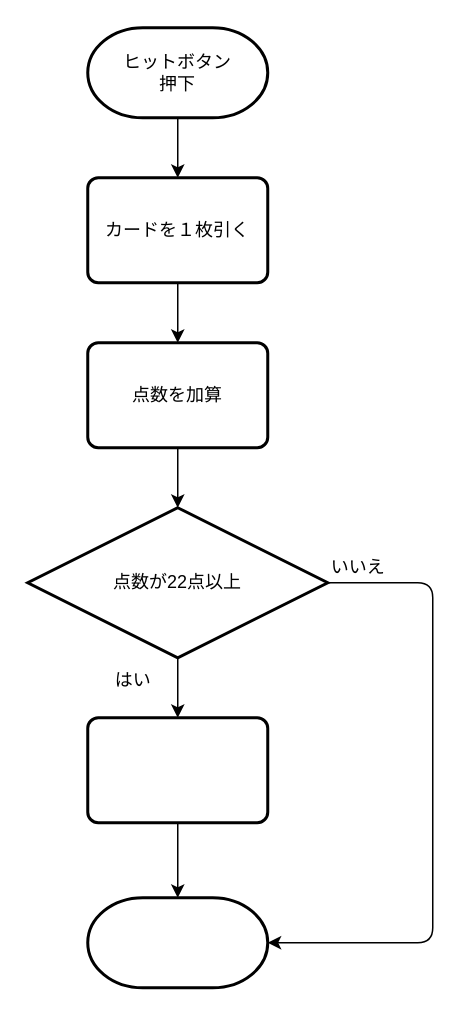
The diagram is 471 pixels wide and 1014 high, and some of its shapes have lost their labels. Here are the shapes that lost their labels. From the top down, the box of each, then its label:
(86, 716, 268, 824): バースト処理
(86, 896, 268, 988): ヒットボタン 処理終了
